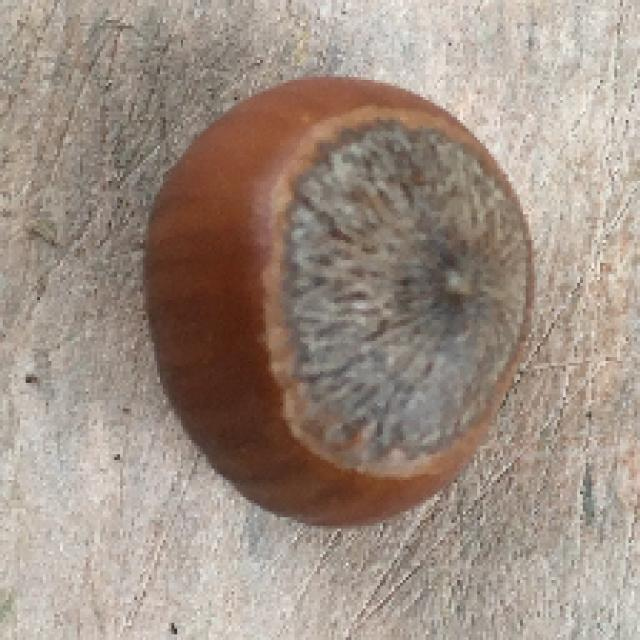qualityHazelnut: (141, 67, 542, 536)
